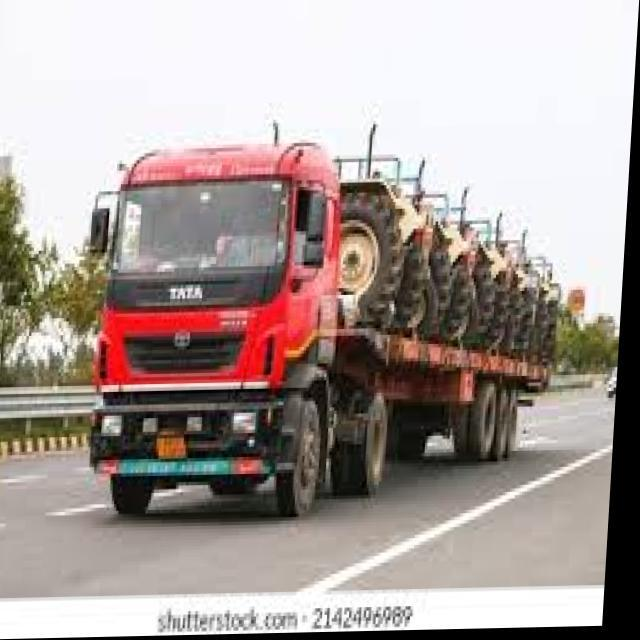uncovered: (94, 142, 567, 509)
